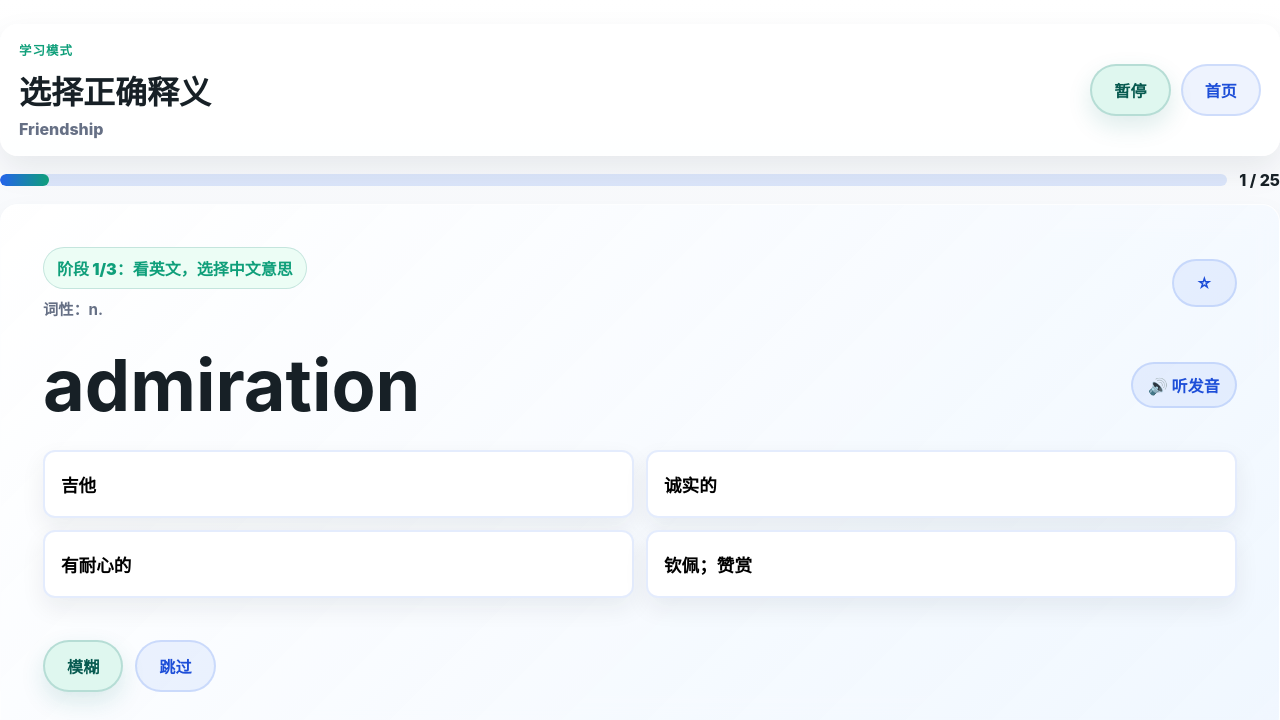
Scenario: StudyPage › pauses with a 3 minute countdown and auto returns home
Click the button "暂停".
click(1130, 90)  # box [1090,64,1171,116]
Wait 180000 ms
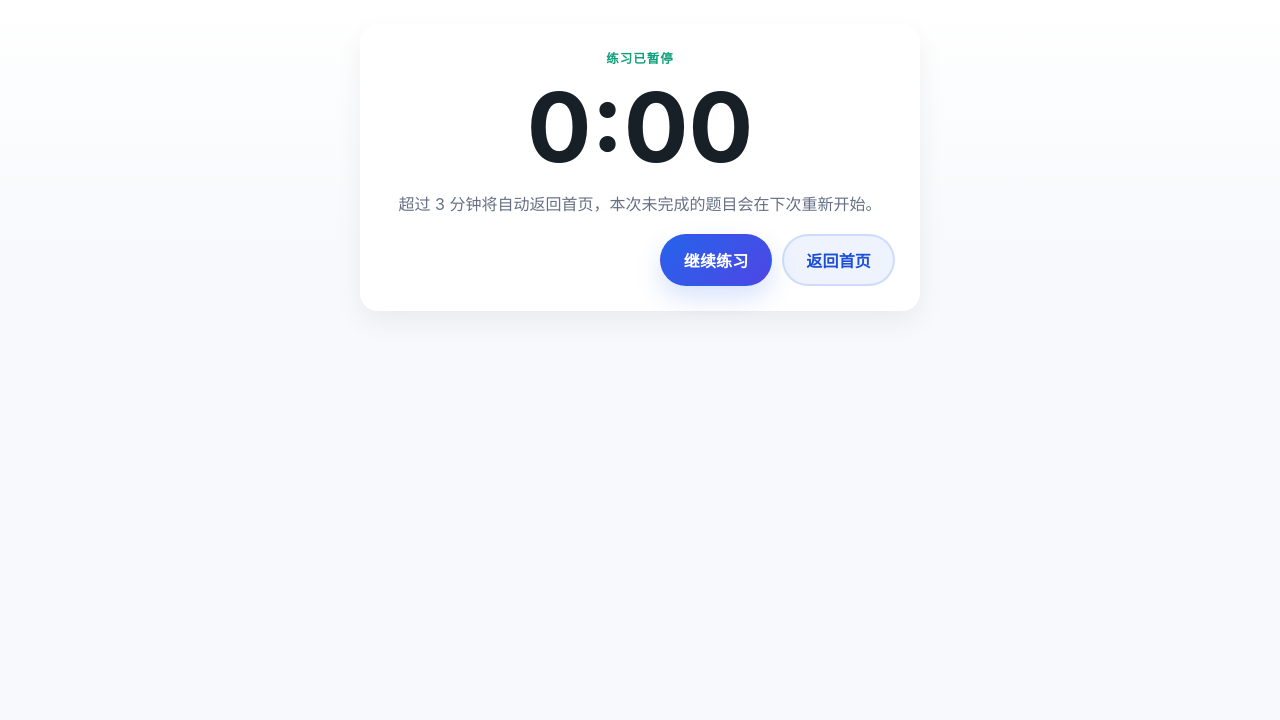
expect the heading "3:00" is shown: met, box [527,69,753,185]
expect the text "练习已暂停" is shown: met, box [606,51,674,66]
